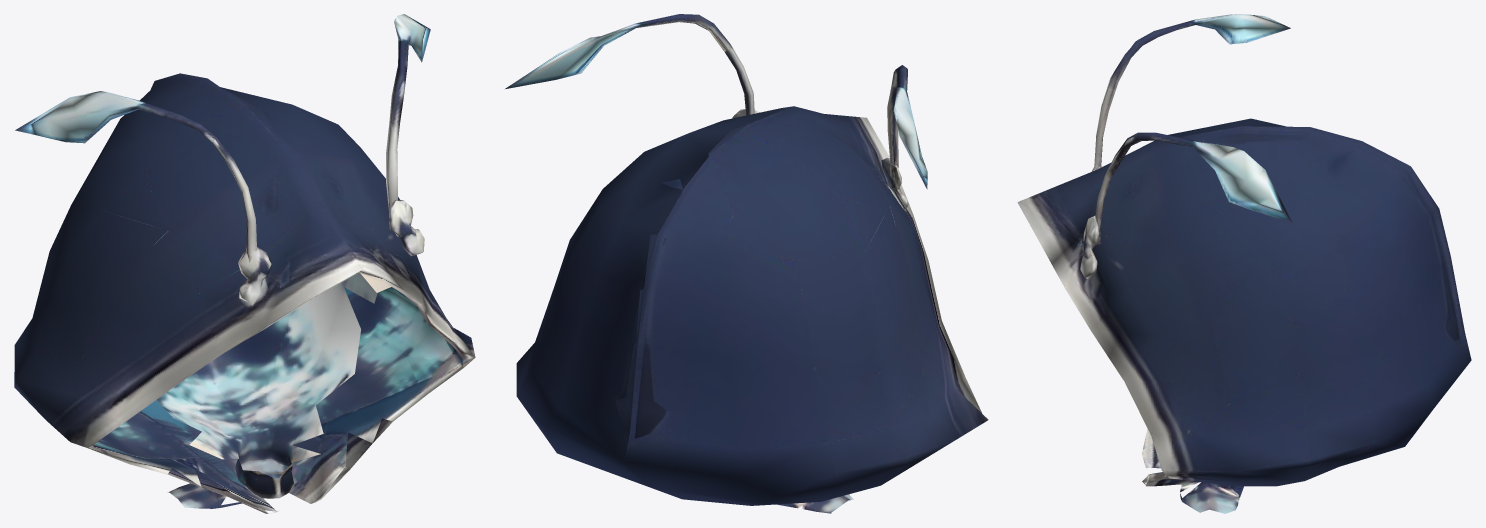
Rendered from mirrorwing_hood.glb.
3 renders of one model, left to right at view 1: azimuth 30°, elevation 25°; view 2: azimuth 150°, elevation 25°; view 3: azimuth 270°, elevation 25°, orthographic. The views are drawn at different scales.
Visible parts, largest first — view 1: Mesh_0; view 2: Mesh_0; view 3: Mesh_0.
Part boxes in pixels (bbox=[...]): Mesh_0: bbox=[14, 14, 475, 513]; Mesh_0: bbox=[505, 14, 988, 513]; Mesh_0: bbox=[1017, 14, 1471, 513].
Size of the model in its own units: 0.4287 by 0.4067 by 0.4227.
Materials: 1 (1 with a texture image).
